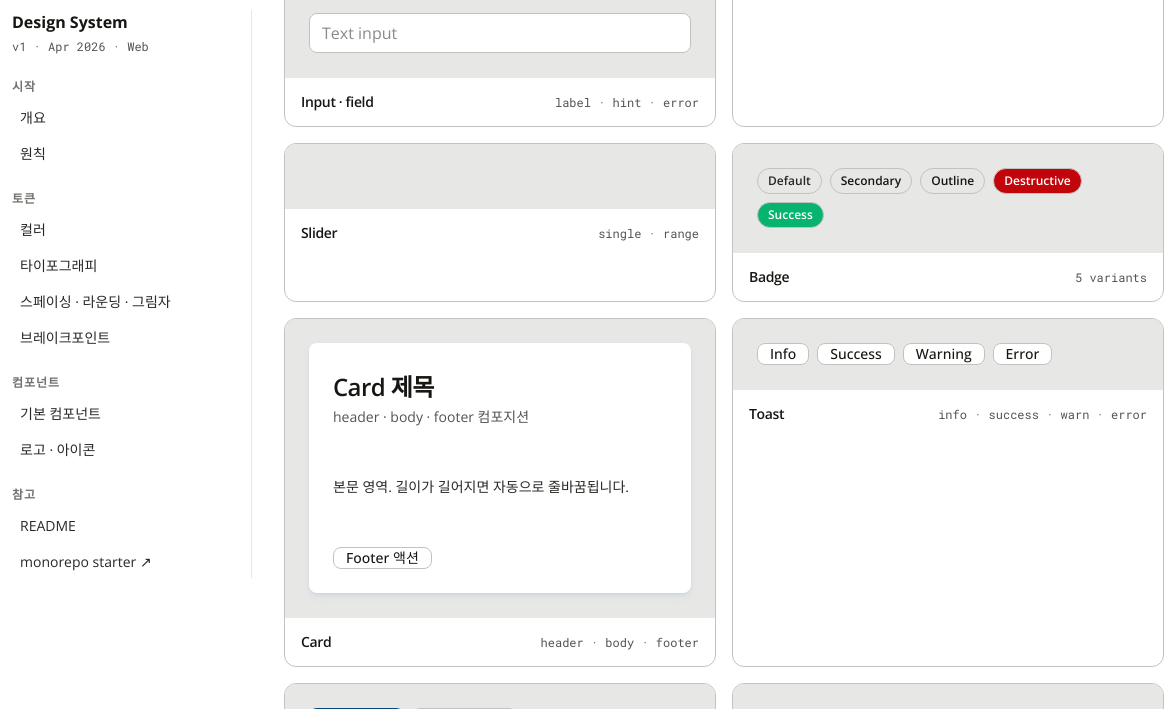
Test: Guide 페이지 — 디자인 시스템 가이드 › Components 섹션 › Toast 카드의 Info 버튼을 클릭하면 토스트가 노출된다
(page scrolled)
Click the button "Info" at (783, 354), box left=757, top=343, right=809, bottom=365
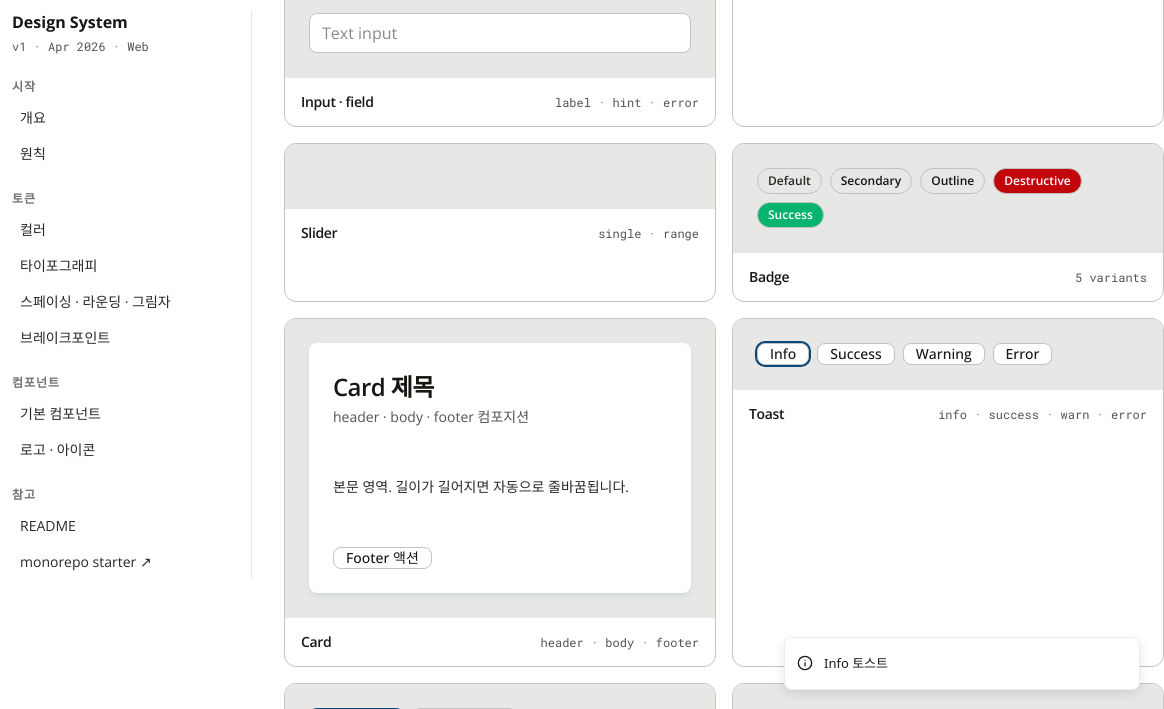
Expected: the text "Info 토스트" is shown, left=824, top=654, right=888, bottom=673
